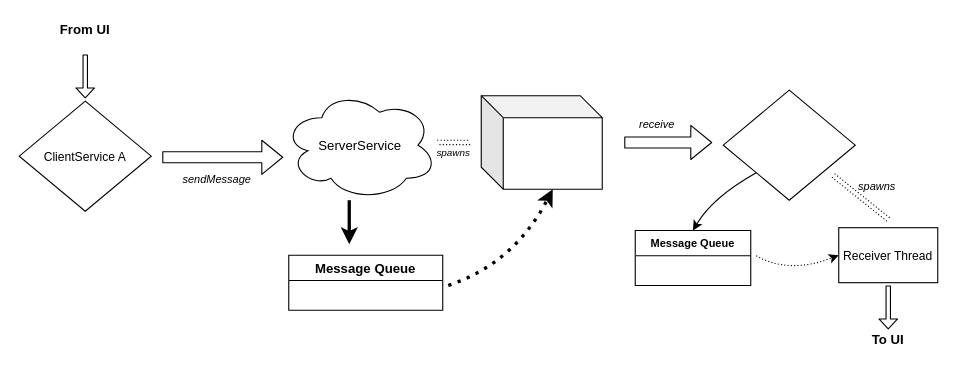
Some shapes in this 957 by 371 pixel diagram are drawn without their labels. The shapes that lost their labels are listed below. From the top down, each one's centre as x and y in pixels, then its label:
pixel 541 142: Dispatcher Threads
pixel 788 144: ClientService B
